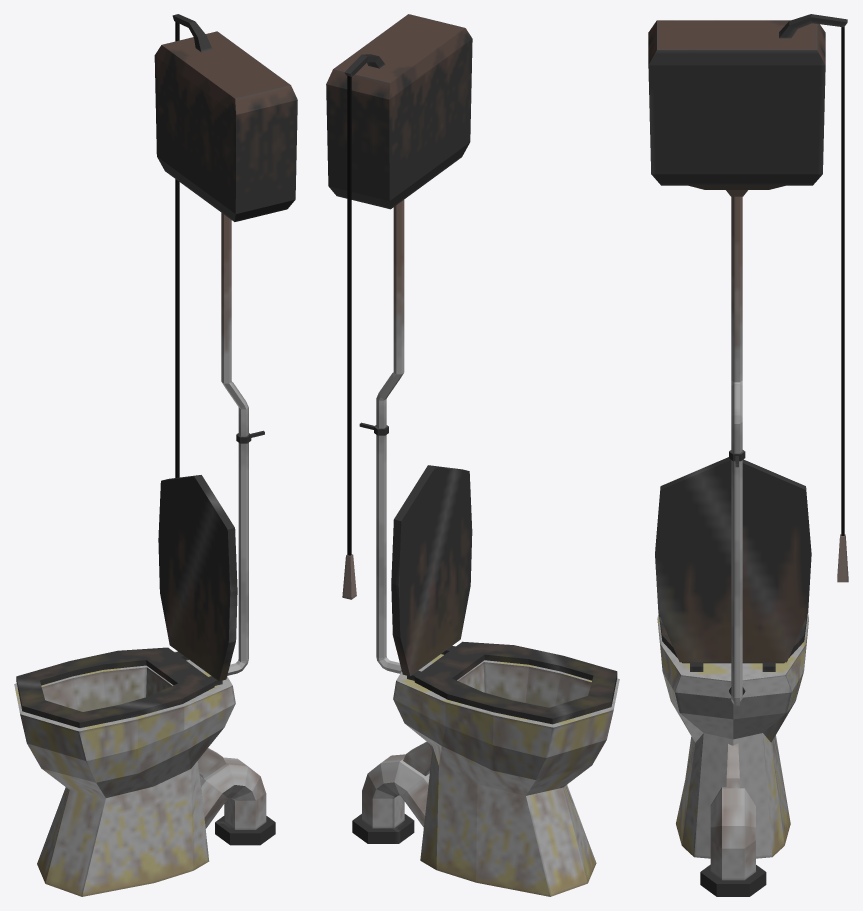
Rendered from obj_toilet.fbx.
The picture shows the model from 3 angles, left to right: view 1: azimuth 30°, elevation 25°; view 2: azimuth 150°, elevation 25°; view 3: azimuth 270°, elevation 25°; orthographic projection. The views are drawn at different scales.
Parts seen in each view (by area): view 1: obj_toilet, obj_toilet_lid; view 2: obj_toilet, obj_toilet_lid; view 3: obj_toilet, obj_toilet_lid.
Part boxes in pixels (x1,y1,x2,y2): obj_toilet: (14, 14, 297, 896); obj_toilet_lid: (158, 475, 237, 681); obj_toilet: (326, 14, 619, 896); obj_toilet_lid: (391, 465, 472, 676); obj_toilet: (648, 14, 848, 896); obj_toilet_lid: (655, 457, 811, 662).
Size of the model in its own units: 62.28 by 190 by 39.99.
